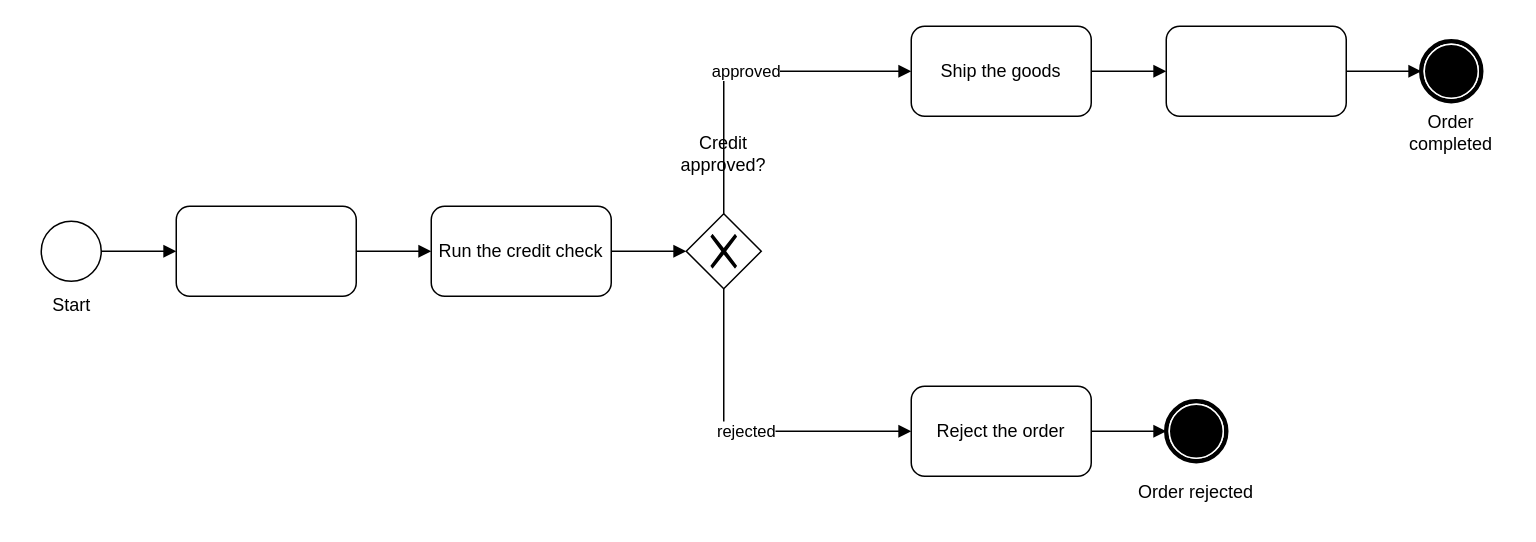
This 1536x542 diagram has some shape labels left out. Each missing label, with the box of its shape:
Record the order: (1165, 25, 1346, 116)
Take the customer order: (175, 205, 356, 296)
